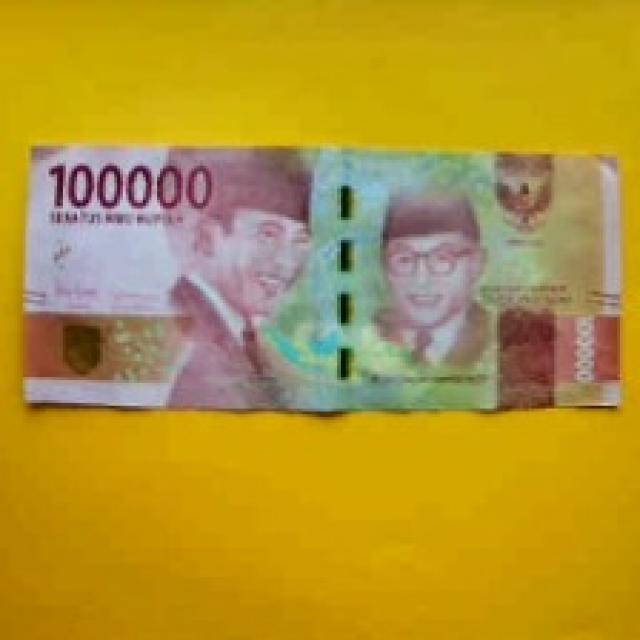lima puluh ribu rupiah: (13, 105, 640, 512)
